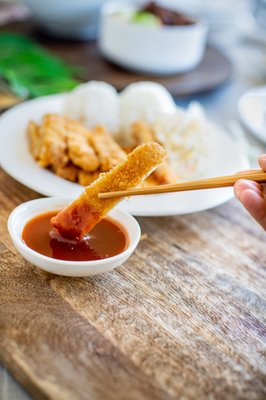sushi: (8, 194, 142, 277), (96, 0, 210, 76)
